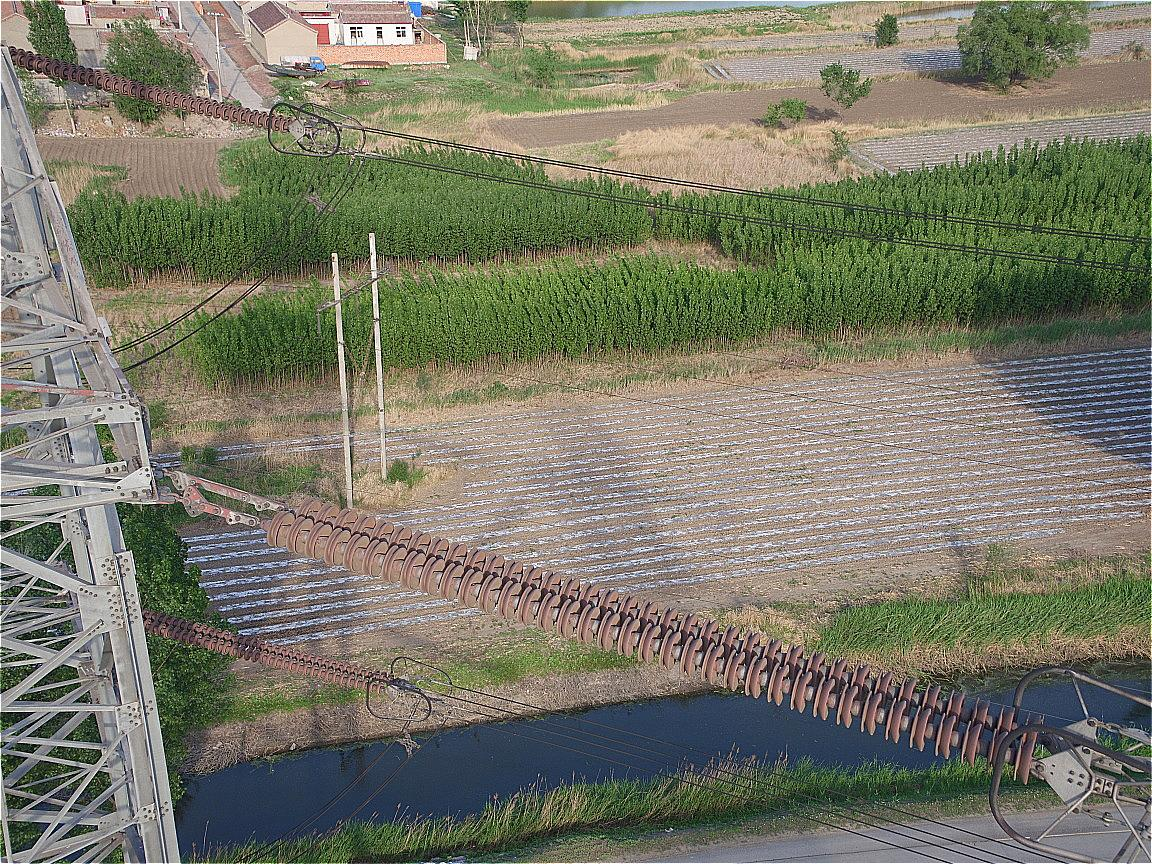insultor1: (8, 43, 292, 134), (142, 611, 389, 698)
insultor2: (264, 492, 1044, 786)
